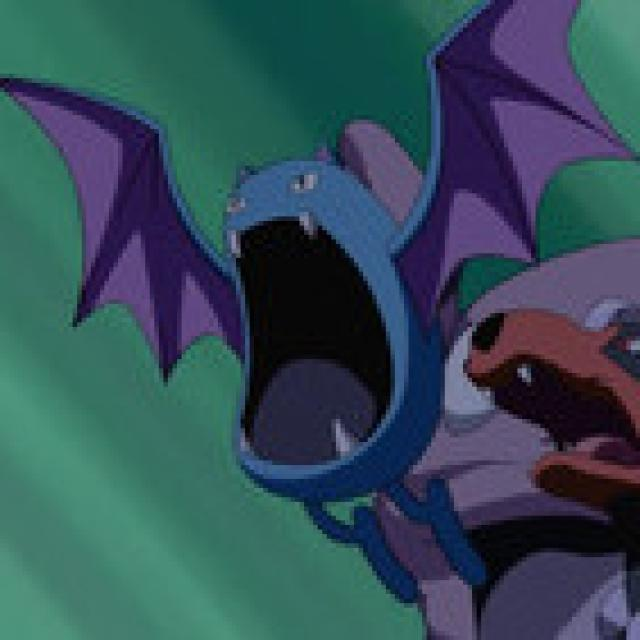Golbat: (120, 118, 547, 596)
